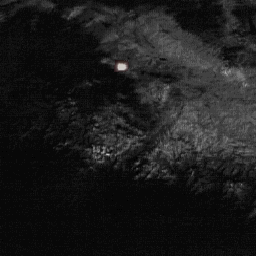Target: (116, 61, 129, 72)
